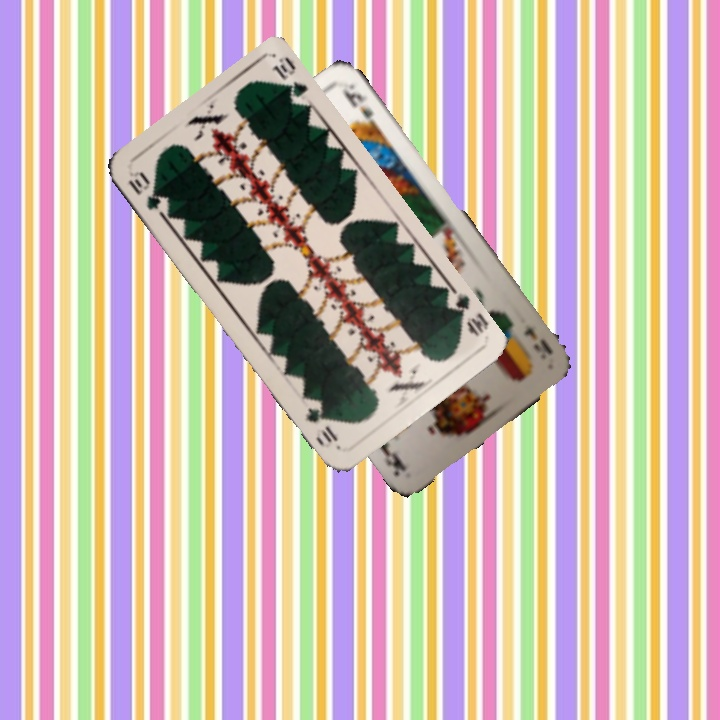EK: (519, 322, 556, 358)
G10: (441, 287, 491, 340), (124, 167, 164, 213)
